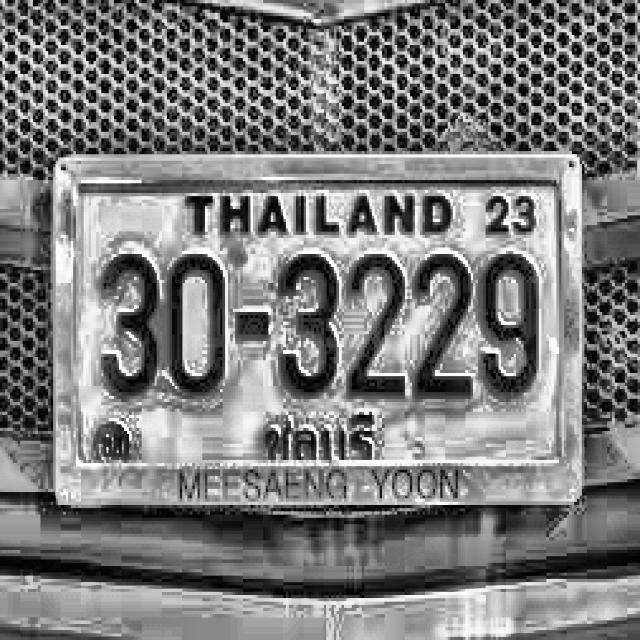license-plate: (54, 150, 590, 510)
